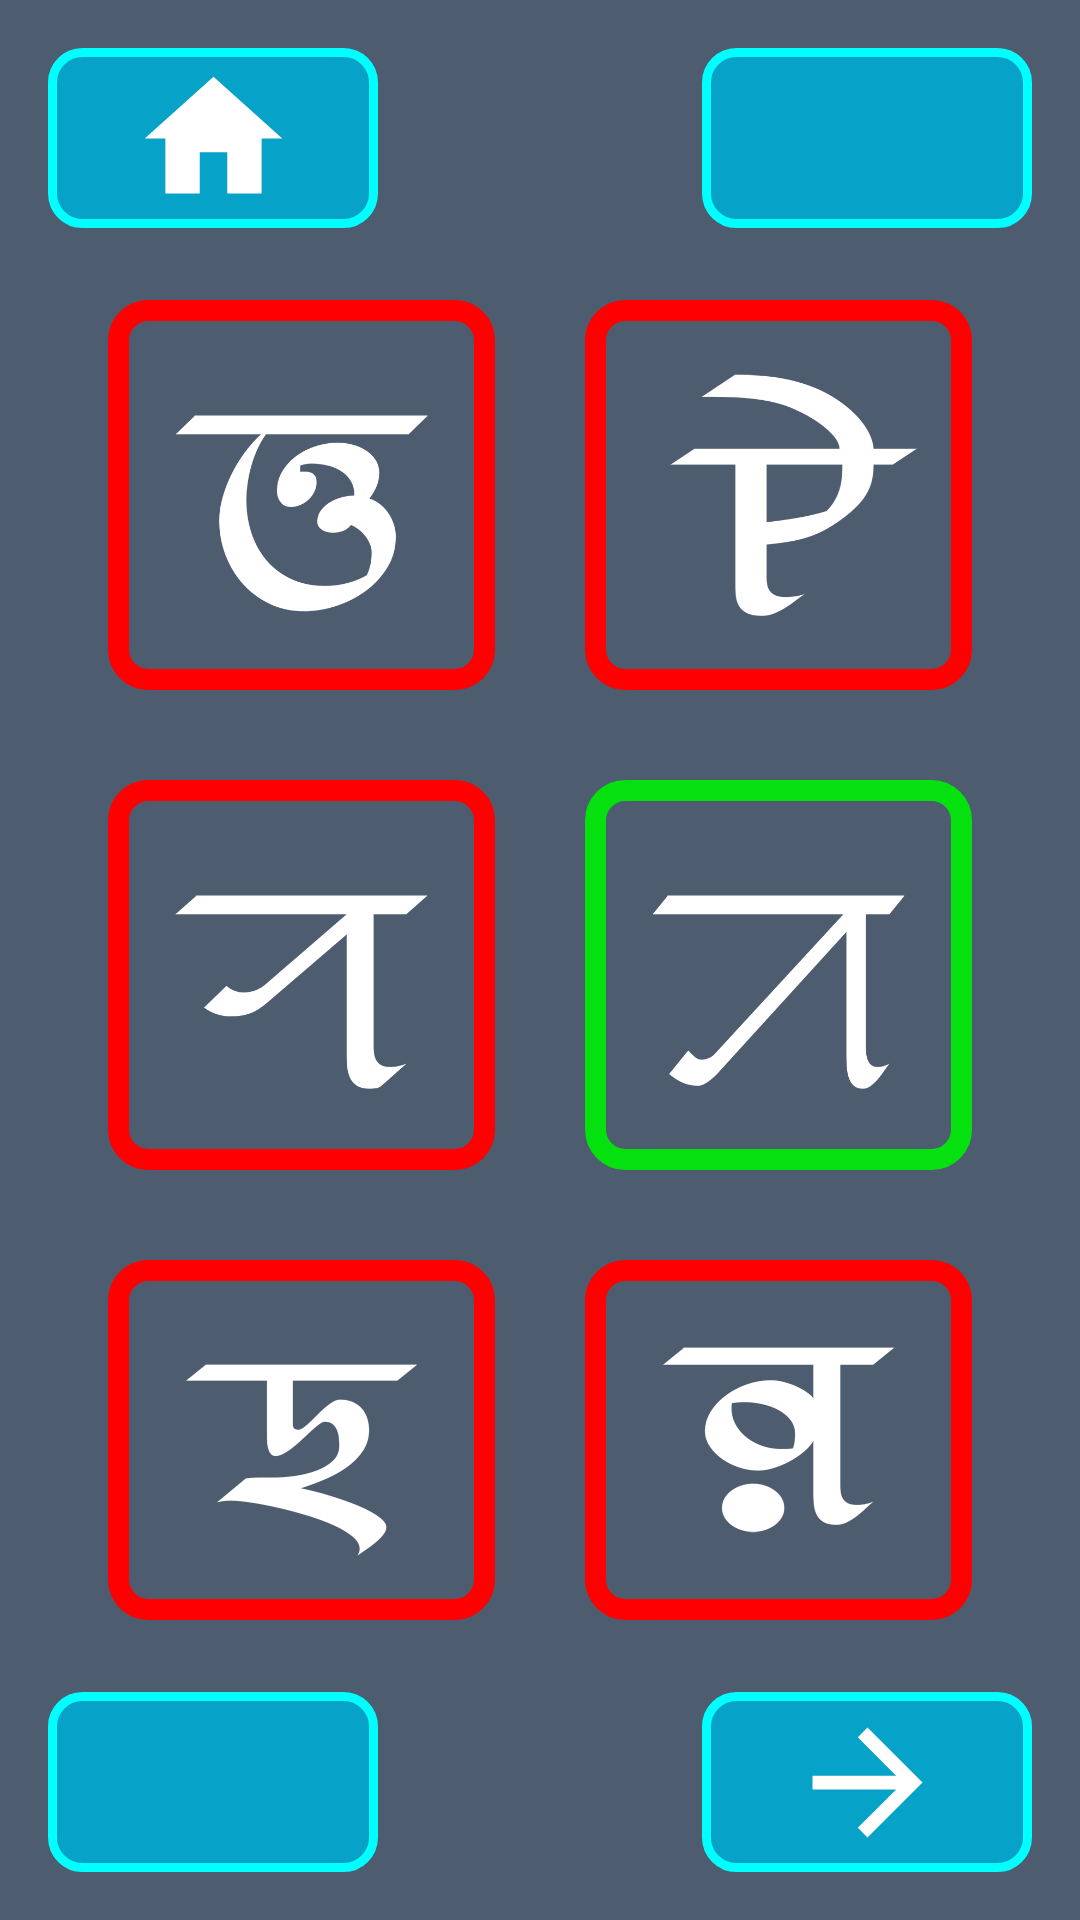

Named icons in this screenshot (1080×1920) and their centers, [x,y]:
arrow forward: [867,1782]
home: [213,138]
